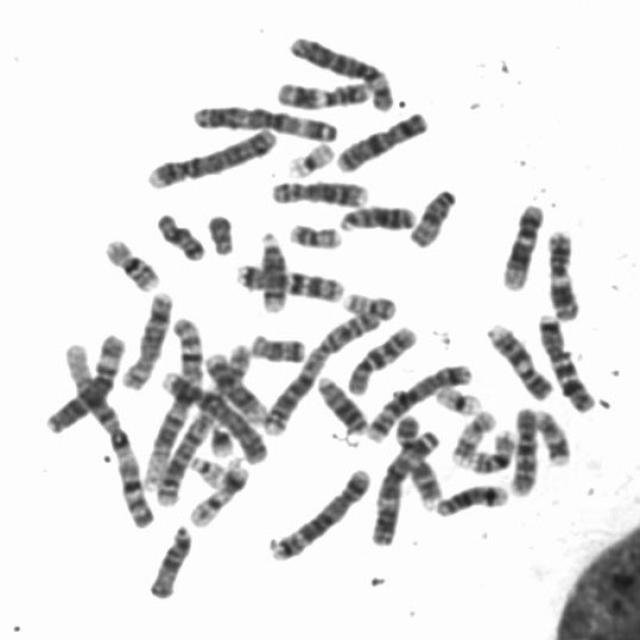A1: (56, 333, 155, 531), (136, 308, 208, 492)
A2: (254, 293, 392, 437), (148, 378, 236, 508)
A3: (363, 420, 443, 547), (184, 95, 341, 143)
B4: (154, 363, 271, 467), (139, 118, 279, 191)
B5: (261, 459, 373, 563), (359, 355, 475, 443)
C10: (340, 317, 420, 396), (502, 397, 542, 498)
C11: (539, 222, 583, 322), (268, 72, 374, 110)
C12: (197, 344, 270, 425), (494, 195, 546, 292)
C6: (280, 28, 397, 112), (38, 326, 128, 434)
C7: (530, 305, 597, 414), (228, 255, 347, 303)
C8: (114, 284, 176, 392), (262, 170, 370, 209)
C9: (478, 314, 556, 402), (388, 408, 444, 508)
D13: (309, 366, 369, 436), (331, 195, 419, 233)
D14: (250, 222, 288, 314), (428, 476, 510, 518)
D15: (140, 516, 195, 600), (402, 180, 458, 250)
E16: (96, 230, 163, 293), (462, 421, 518, 474)
E17: (444, 402, 499, 468), (526, 400, 574, 468)
E18: (148, 203, 208, 262), (242, 326, 309, 364)
F19: (279, 134, 337, 178), (426, 377, 486, 416)
F20: (336, 284, 399, 320), (282, 214, 344, 250)
G21: (212, 454, 250, 495), (202, 416, 236, 458)
G22: (183, 447, 228, 490), (186, 489, 232, 529)
X: (328, 102, 432, 174)
Y: (200, 206, 237, 256)
